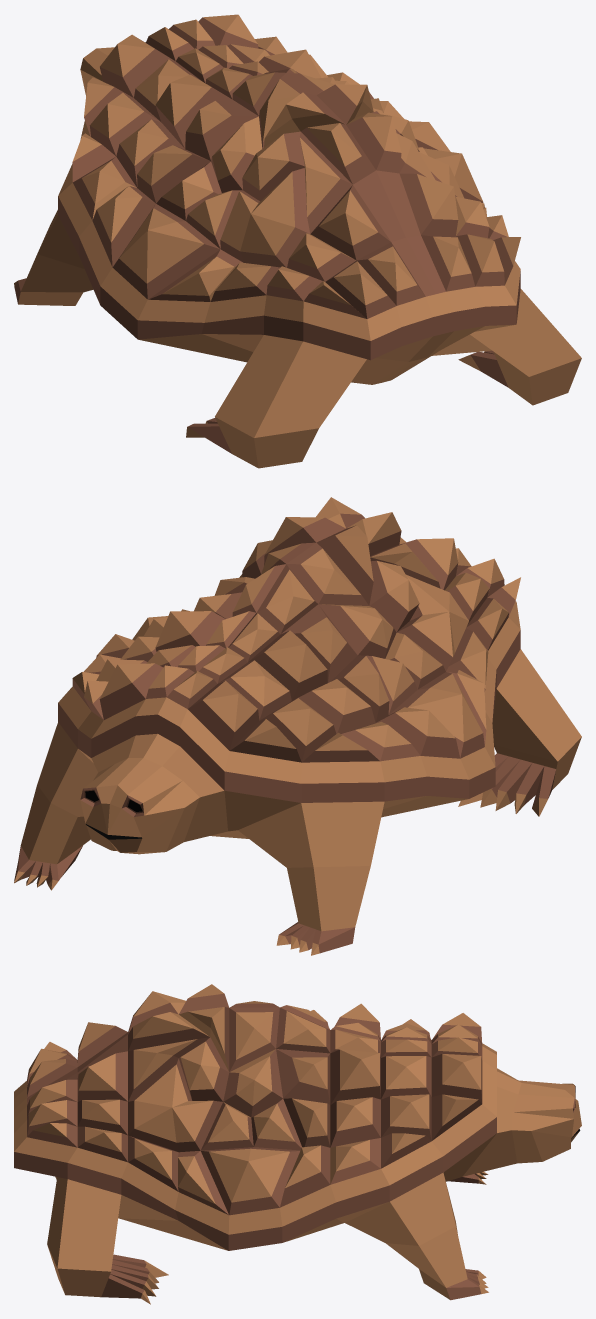
File: snapper_fbx.fbx
3 renders of one model, top to bottom at view 1: azimuth 30°, elevation 25°; view 2: azimuth 150°, elevation 25°; view 3: azimuth 270°, elevation 25°, orthographic. The views are drawn at different scales.
Visible parts, largest first — view 1: Plane; view 2: Plane; view 3: Plane.
Part boxes in pixels (x1=…): Plane: x1=14, y1=14, x2=581, y2=468; Plane: x1=14, y1=497, x2=581, y2=955; Plane: x1=14, y1=984, x2=581, y2=1304.
Size of the model in its own units: 61.3 by 43.91 by 96.68.
